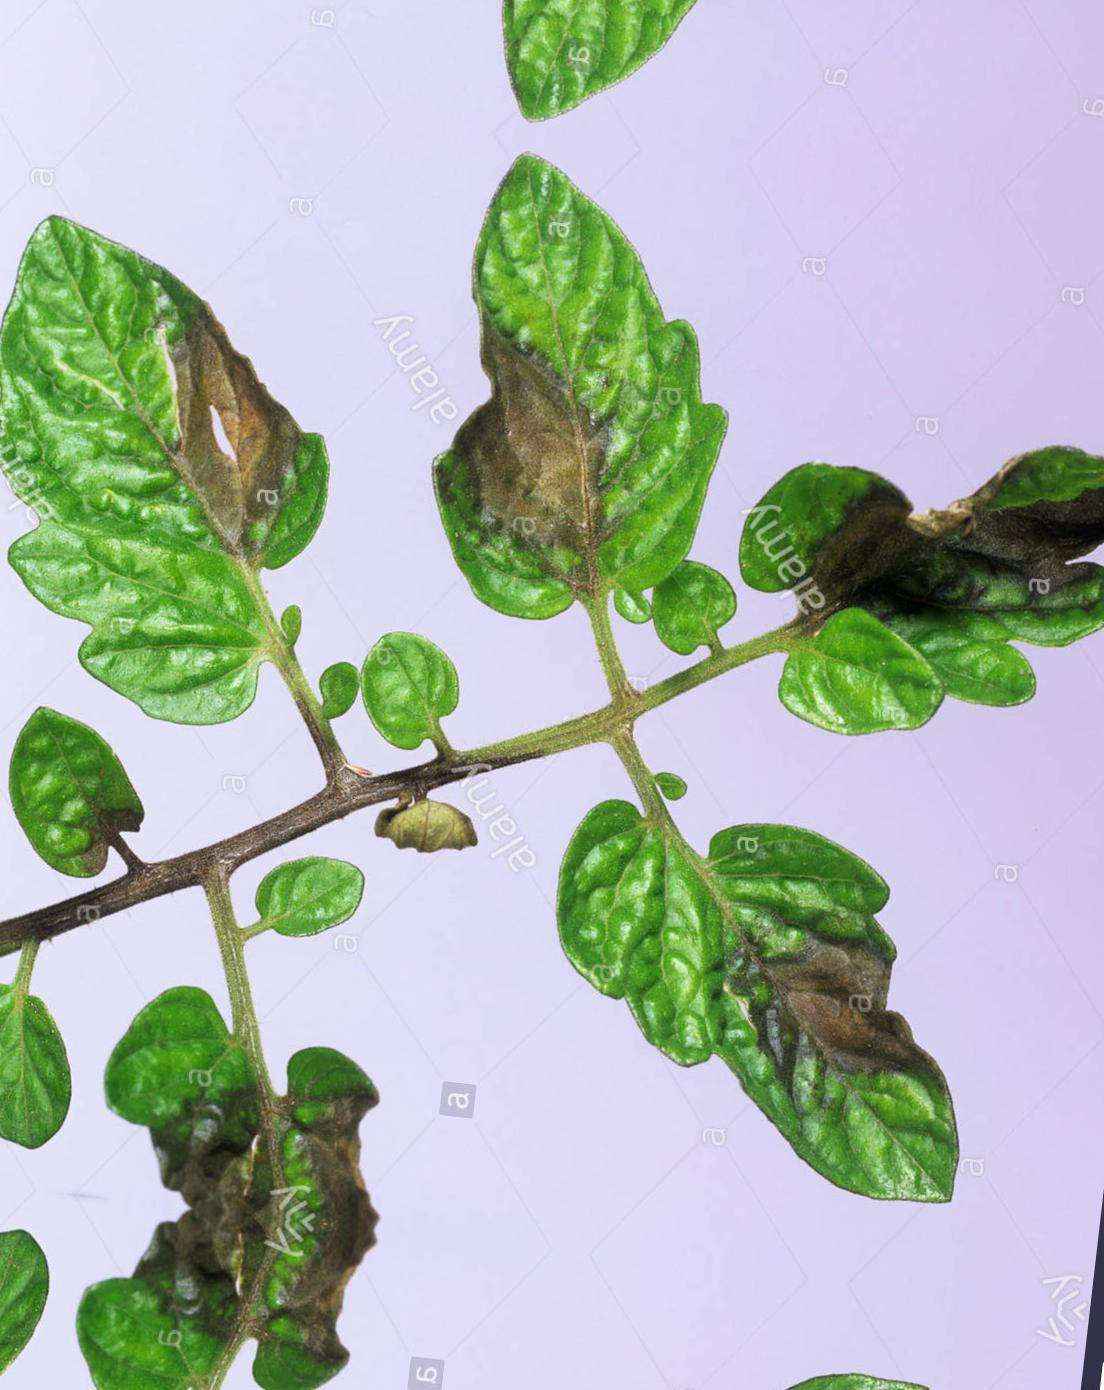Tomato leaf late blight: (506, 764, 1026, 1226), (0, 187, 368, 746), (410, 140, 791, 657), (699, 345, 1104, 783)
